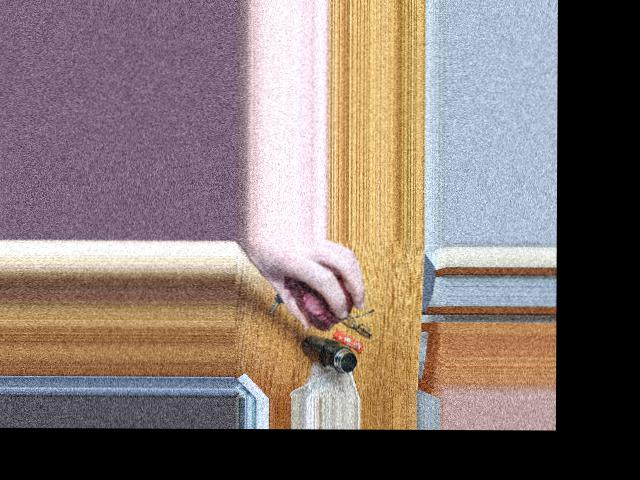onion: (290, 276, 351, 324)
